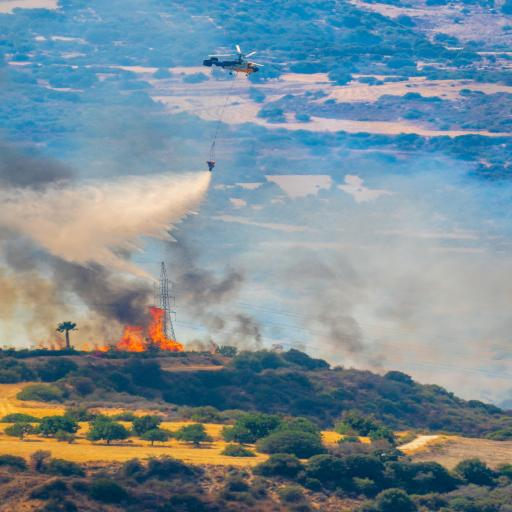smoke: (7, 196, 512, 338)
wildfire: (0, 270, 512, 422)
